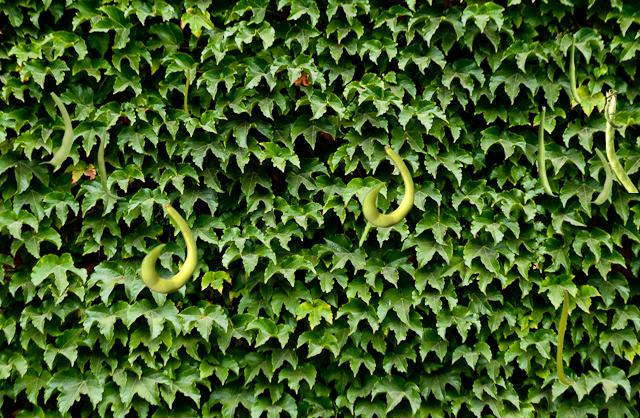french_bean: (140, 203, 196, 292), (362, 145, 413, 226), (604, 89, 637, 191), (38, 91, 72, 164), (97, 126, 125, 199), (537, 106, 557, 195), (556, 286, 571, 384), (585, 147, 611, 203), (358, 198, 377, 253), (569, 34, 584, 103), (184, 66, 190, 114)
